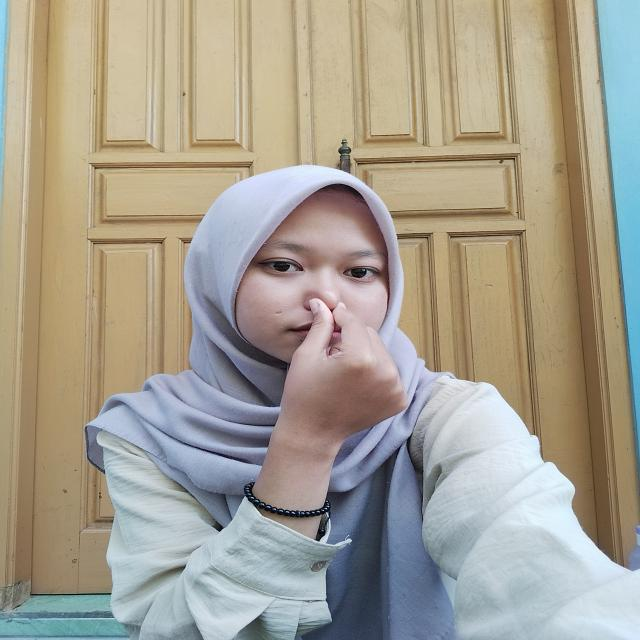bau: (275, 278, 412, 438)
